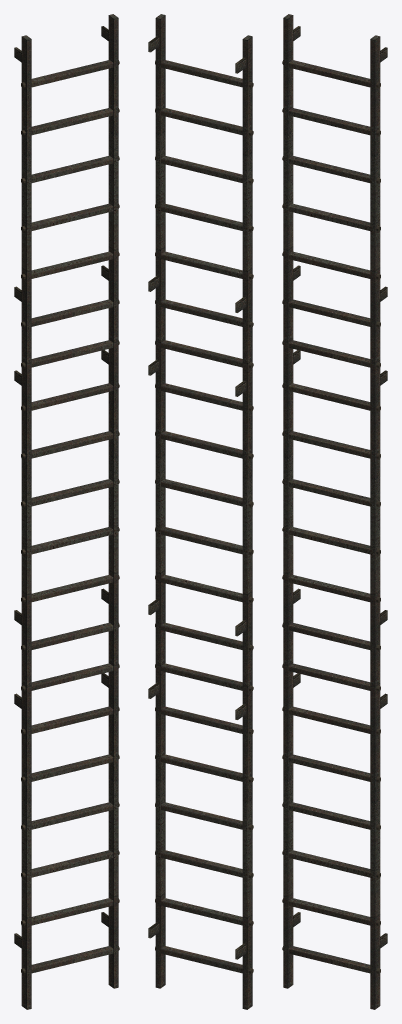
The model's file is ladder_hr_1_long.glb.
The picture shows the model from 3 angles, left to right: view 1: azimuth 30°, elevation 25°; view 2: azimuth 150°, elevation 25°; view 3: azimuth 330°, elevation 25°; orthographic projection.
Visible parts, largest first — view 1: ladder_hr_1_long; view 2: ladder_hr_1_long; view 3: ladder_hr_1_long.
Boxes of the visible parts, box(x1,y1,x2,y2) form: ladder_hr_1_long: box(14, 14, 119, 1009); ladder_hr_1_long: box(148, 14, 253, 1009); ladder_hr_1_long: box(282, 14, 387, 1009).
Size of the model in its own units: 0.84 by 8.1 by 0.21.
Materials: 1 (1 with a texture image).
